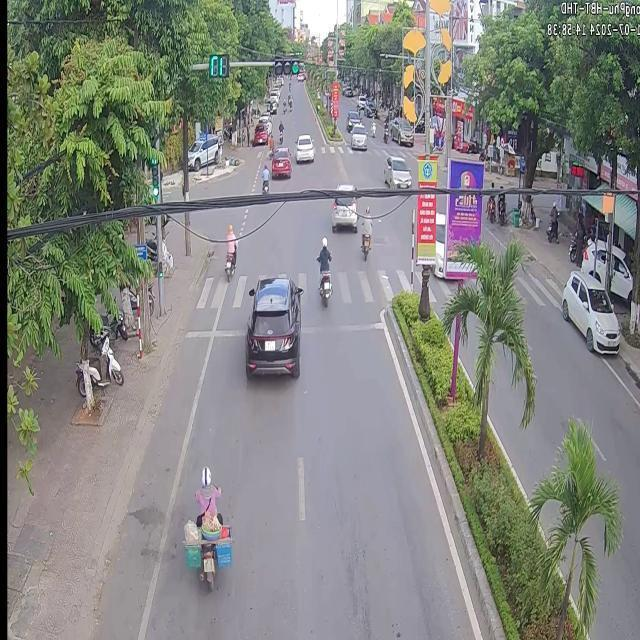car: (243, 274, 299, 378), (559, 269, 618, 351), (330, 196, 356, 231), (382, 154, 409, 187), (269, 145, 289, 176), (294, 131, 313, 161), (336, 182, 353, 189)
green_light: (208, 54, 229, 78), (271, 57, 300, 74), (152, 156, 160, 197)
motobike: (193, 465, 219, 589), (316, 236, 330, 304), (223, 222, 236, 280)
stop_line: (299, 320, 380, 331), (213, 327, 243, 336), (187, 329, 209, 336)
